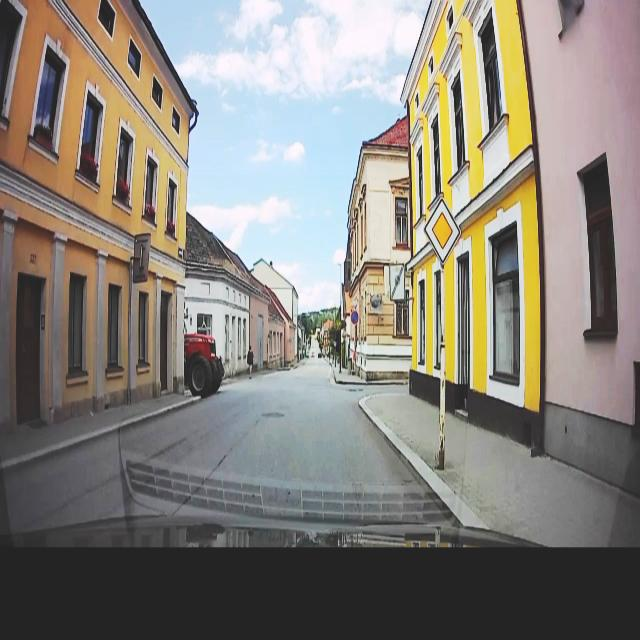Priority road: (424, 192, 463, 265)
